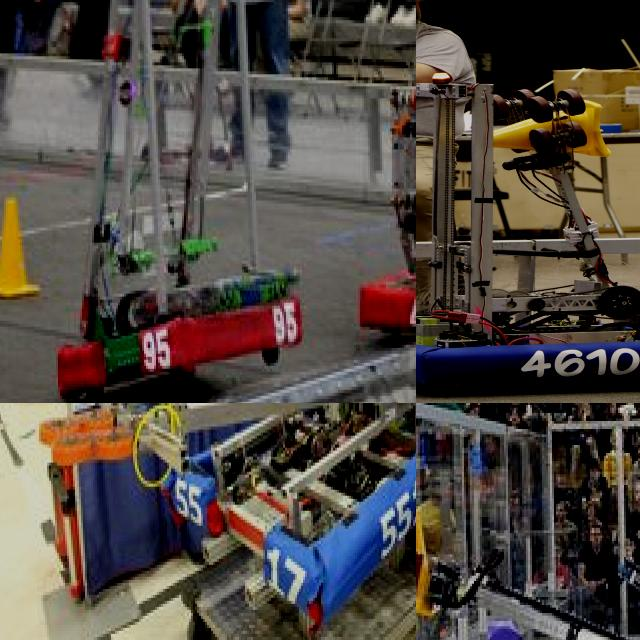FRC-Robots: (46, 0, 342, 403), (416, 61, 640, 392), (155, 403, 416, 609), (416, 509, 640, 640), (376, 0, 416, 363)
